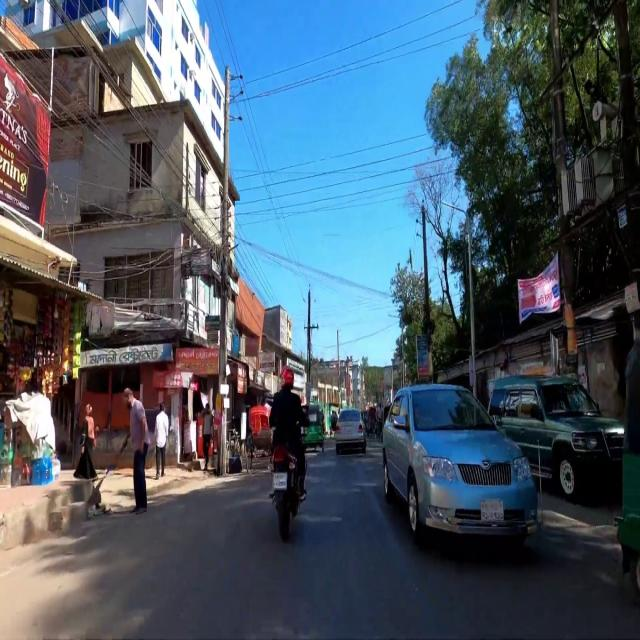green: (484, 372, 627, 494)
silver: (383, 378, 538, 563)
white: (334, 407, 366, 453)
